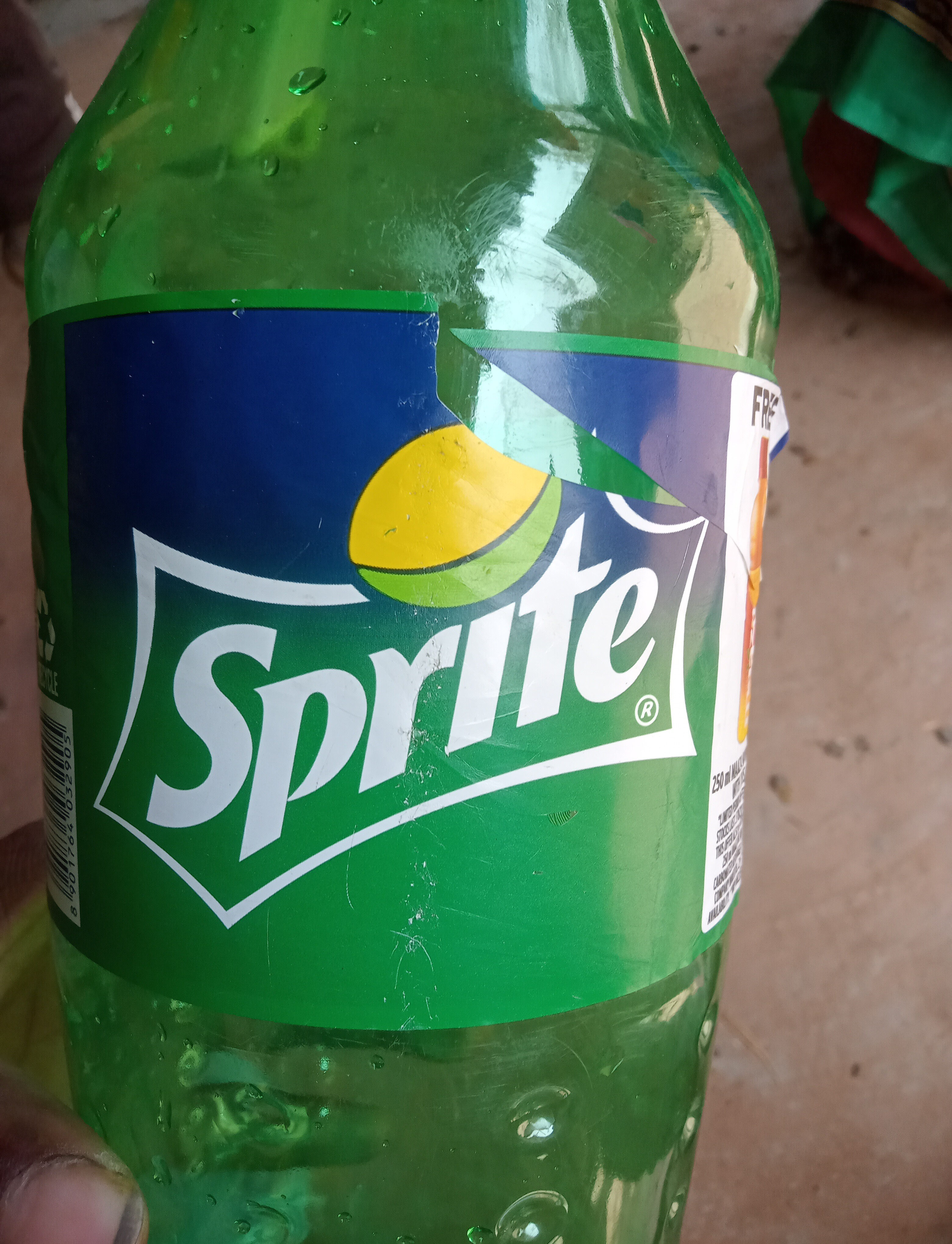Sprite: (86, 112, 866, 1132)
